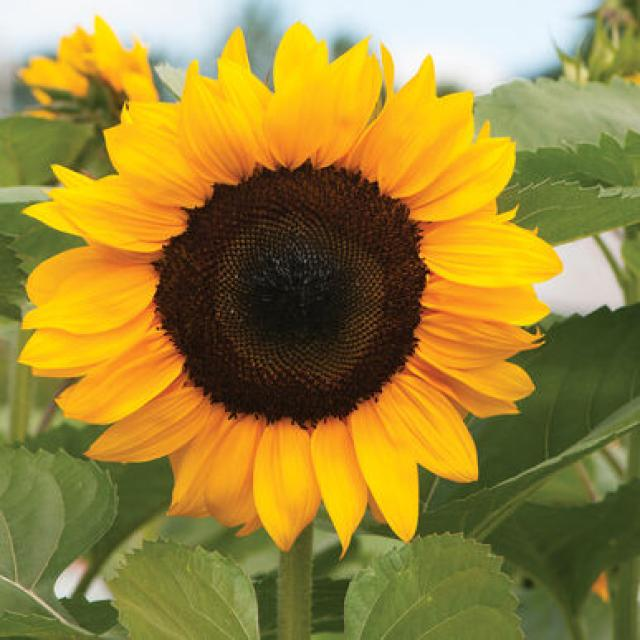sunflower: (12, 15, 568, 561)
